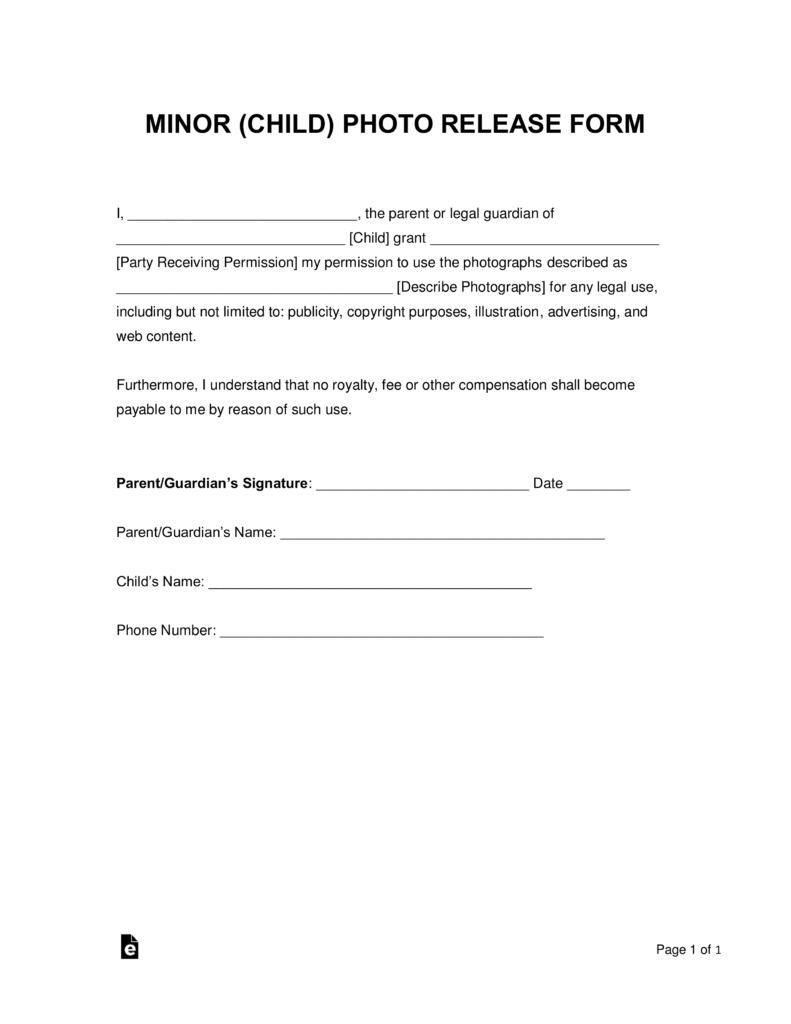textline: (205, 574, 539, 600), (214, 624, 549, 646), (276, 527, 609, 548), (101, 280, 399, 300), (124, 205, 366, 225), (313, 476, 533, 497), (425, 237, 670, 252), (107, 236, 349, 250), (564, 479, 637, 500)
